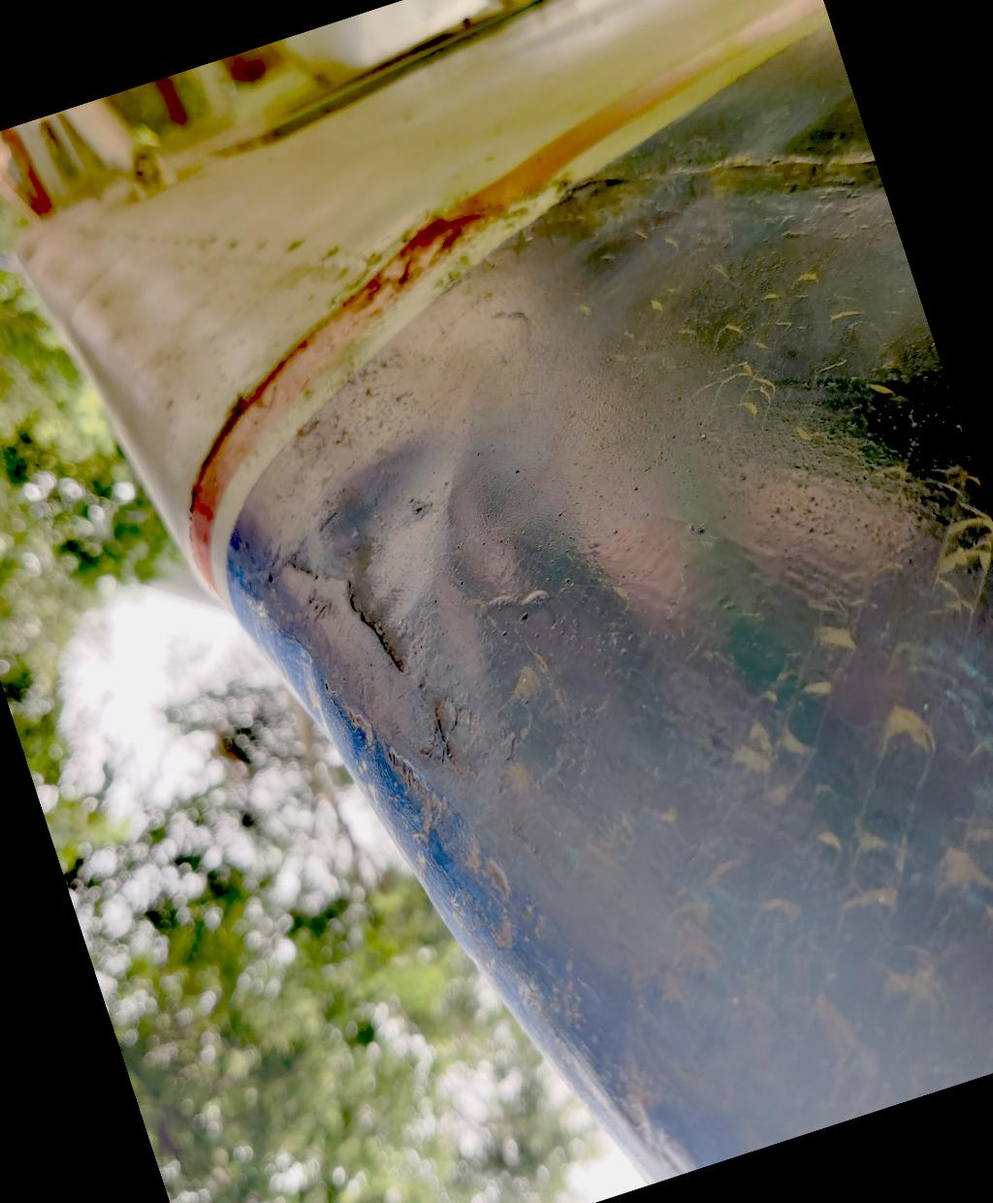dent: (255, 356, 566, 728)
